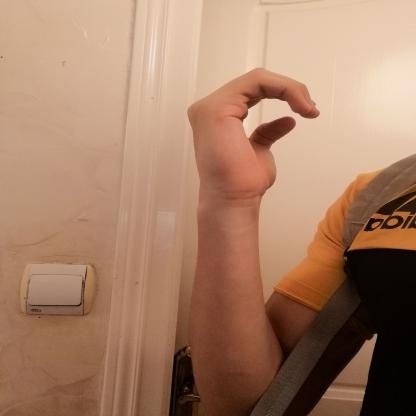JEEM: (166, 53, 335, 211)
